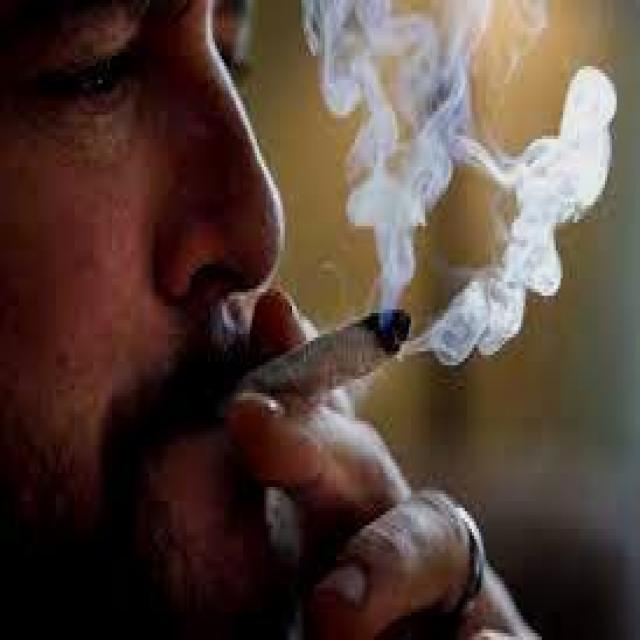cigarette: (215, 299, 416, 424)
